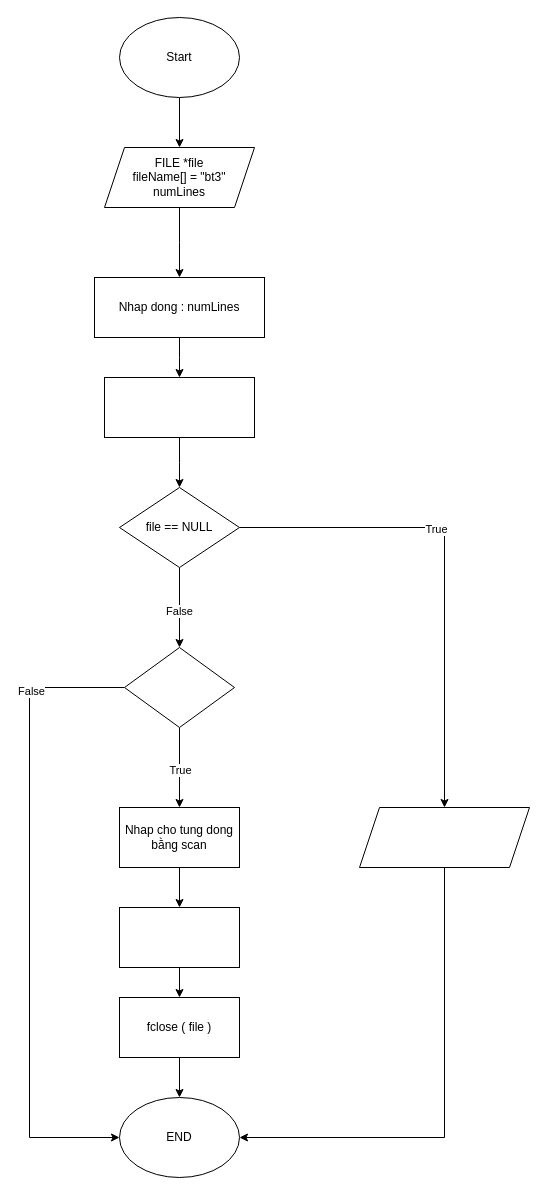
Some shapes in this 547 by 1195 pixel diagram are drawn without their labels. The shapes that lost their labels are listed below. From the top down, each one's box as (x1, y1, x2, y2) in pixels, then its label:
(104, 376, 254, 438): file = fopen (fileName)
(124, 646, 234, 728): i < numLines
(358, 806, 530, 868): khong mo duoc file
(118, 906, 240, 968): Nhap vao file bằng fprintf
